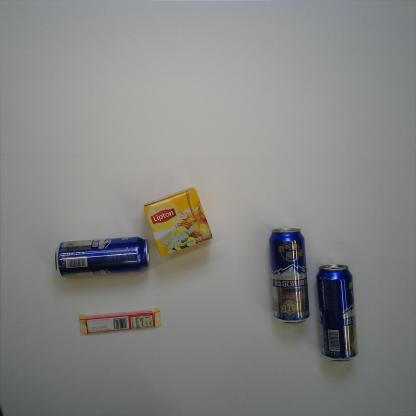Alcohol: (316, 263, 358, 362), (54, 236, 150, 278), (269, 228, 310, 324)
Chocolate: (79, 307, 161, 334)
Instant Drink: (143, 187, 213, 258)
